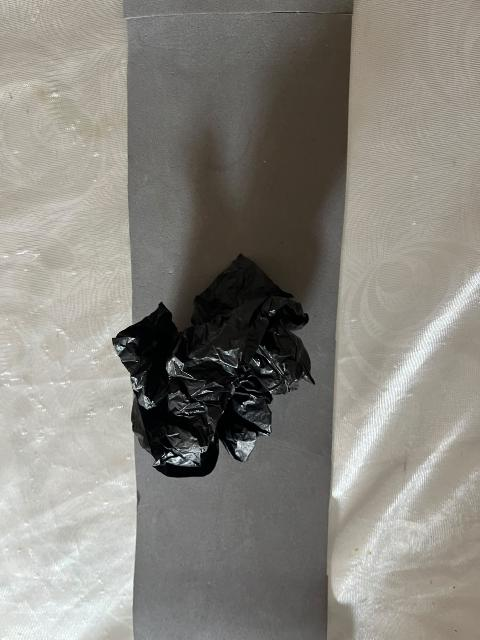LDPE: (59, 206, 371, 559)
